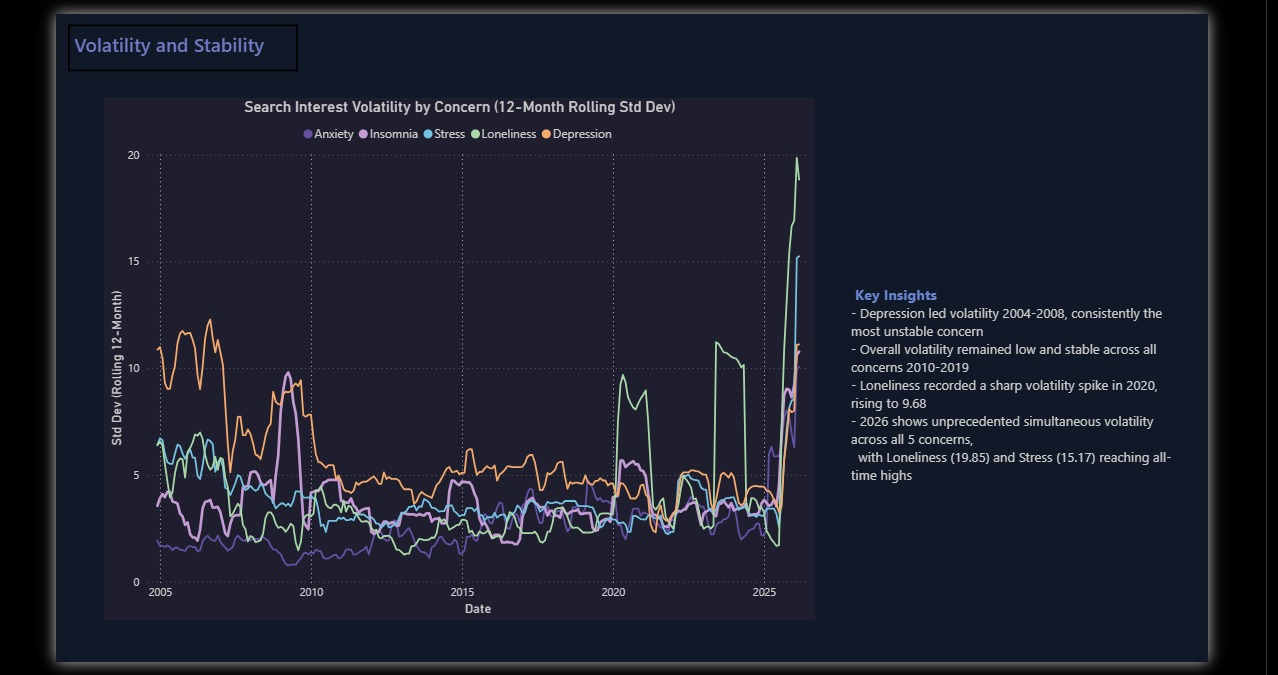

The dashboard page shown, as its layout file describes it:
{"tool":"powerbi","page":{"name":"Volatility and Stability","canvas":[1280,720],"ordinal":6},"visuals":[{"type":"textbox","box":[13.3,11.7,255,51.7],"z":0},{"type":"lineChart","title":"Search Interest Volatility by Concern (12-Month Rolling Std Dev)","fields":{"Y":["Avg(powerbi_rolling_std.anxiety)","Avg(powerbi_rolling_std.insomnia)","Avg(powerbi_rolling_std.stress)","Avg(powerbi_rolling_std.loneliness)","Avg(powerbi_rolling_std.depression)"],"Category":["powerbi_rolling_std.date.Variation.Date Hierarchy.Year","powerbi_rolling_std.date.Variation.Date Hierarchy.Month"]},"box":[53.3,93.3,790,580],"z":1000},{"type":"textbox","box":[878.3,295,386.7,250],"z":2000}]}

Visuals, with their boxes on the page's 1280x720 design canvas (x1, y1, x2, y2). These are canvas units, not pixel positions in the 1278x675 screenshot, which may show the page scaled, cropped or inside an application window:
textbox: left=13, top=12, right=268, bottom=63
"Search Interest Volatility by Concern (12-Month Rolling Std Dev)" lineChart: left=53, top=93, right=843, bottom=673
textbox: left=878, top=295, right=1265, bottom=545
